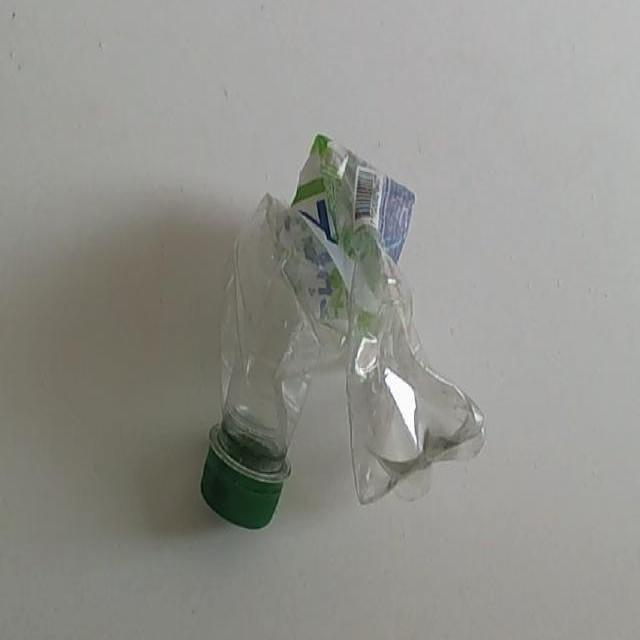defect: (198, 130, 490, 534)
